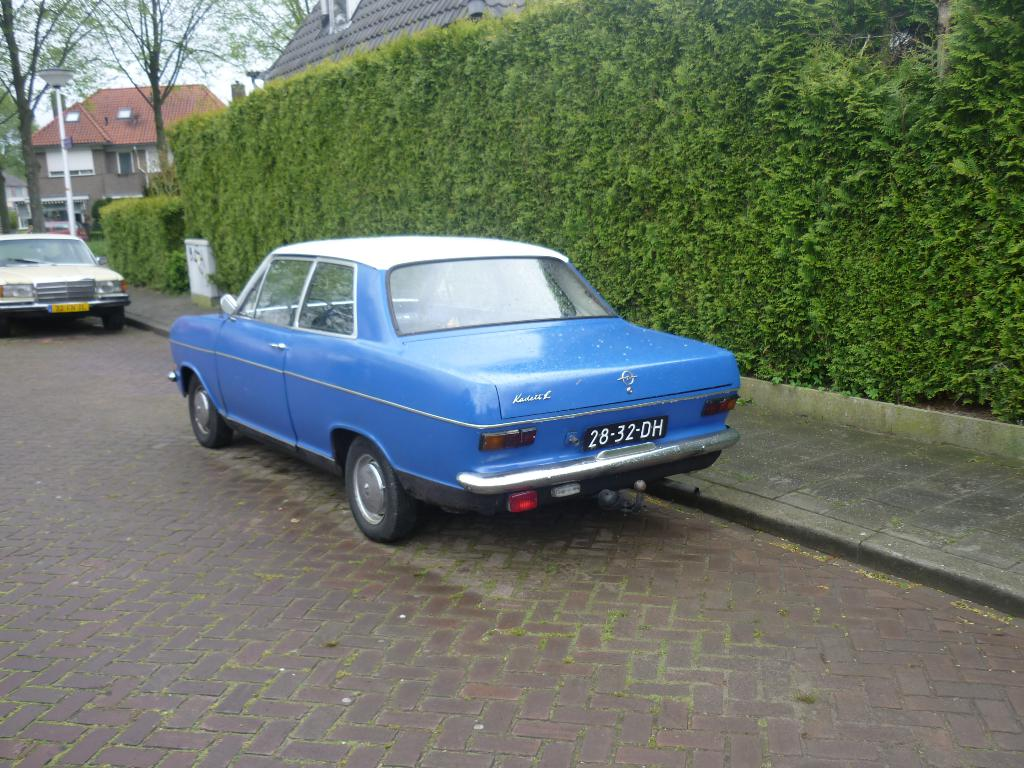mobil: (183, 229, 751, 509)
